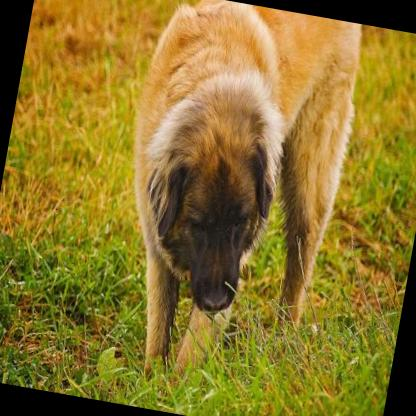Leonberg: (82, 0, 371, 416)
